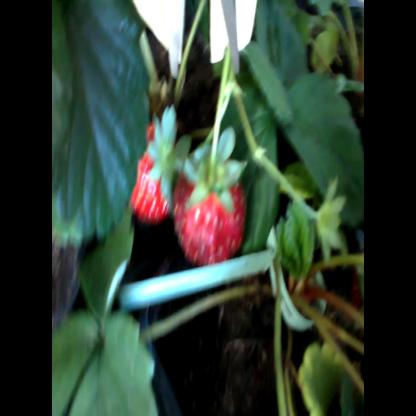ripe: (181, 154, 249, 260), (122, 101, 176, 217)
